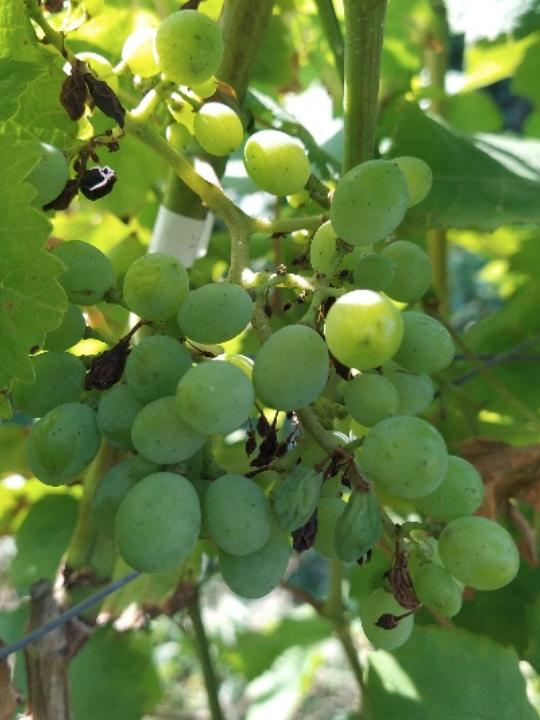grape: (10, 7, 522, 654)
